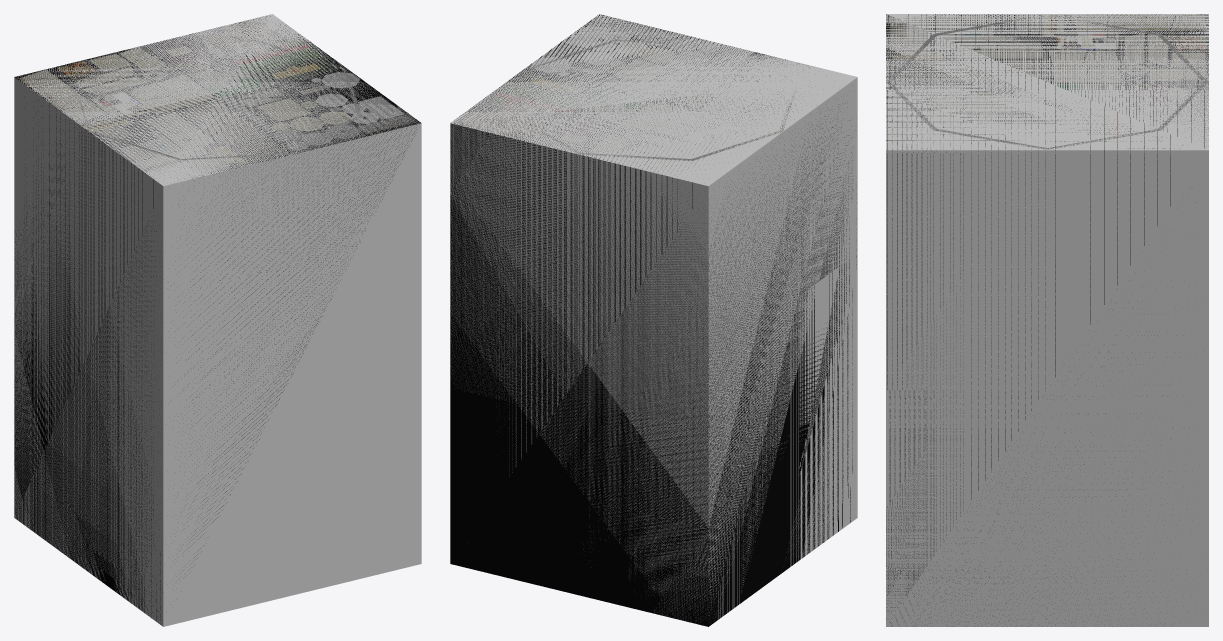
The model's file is wine_glass.DAE.
3 renders of one model, left to right at view 1: azimuth 30°, elevation 25°; view 2: azimuth 150°, elevation 25°; view 3: azimuth 270°, elevation 25°, orthographic. The views are drawn at different scales.
Parts seen in each view (by area): view 1: bounds, colbox-1, wine_glass100; view 2: bounds, colbox-1, wine_glass100; view 3: bounds, colbox-1, wine_glass100.
Boxes of the visible parts, <box> form: bounds: <box>14,14,421,626</box>; colbox-1: <box>14,16,420,624</box>; wine_glass100: <box>75,39,361,160</box>; bounds: <box>450,14,857,623</box>; colbox-1: <box>450,14,856,626</box>; wine_glass100: <box>511,39,795,160</box>; bounds: <box>886,14,1208,626</box>; colbox-1: <box>886,14,1208,626</box>; wine_glass100: <box>886,15,1208,149</box>.
Bounding box in the file's own units: 14.01 × 14.01 × 22.84.
